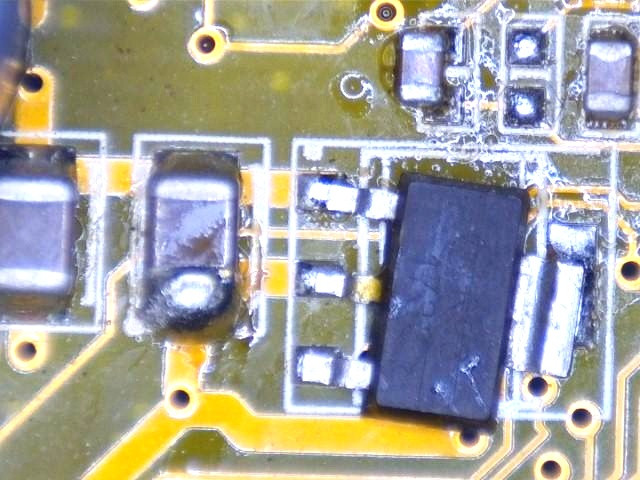pcb_defect: (294, 172, 598, 426)
